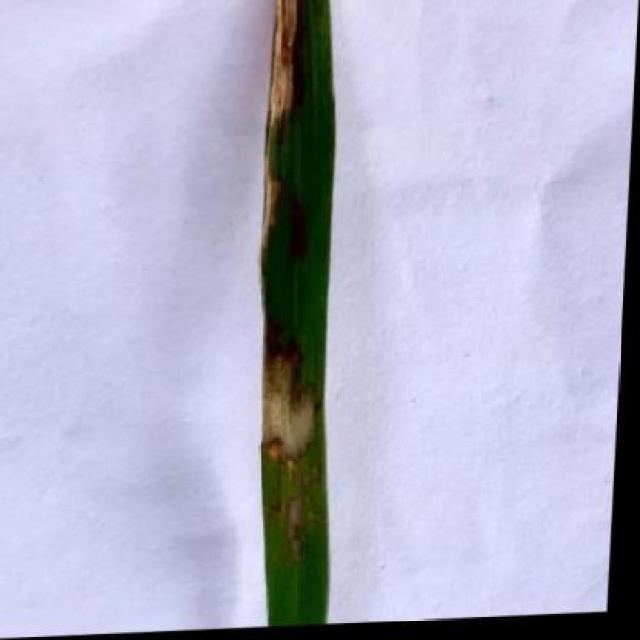Brown_Spot: (236, 0, 370, 631)
